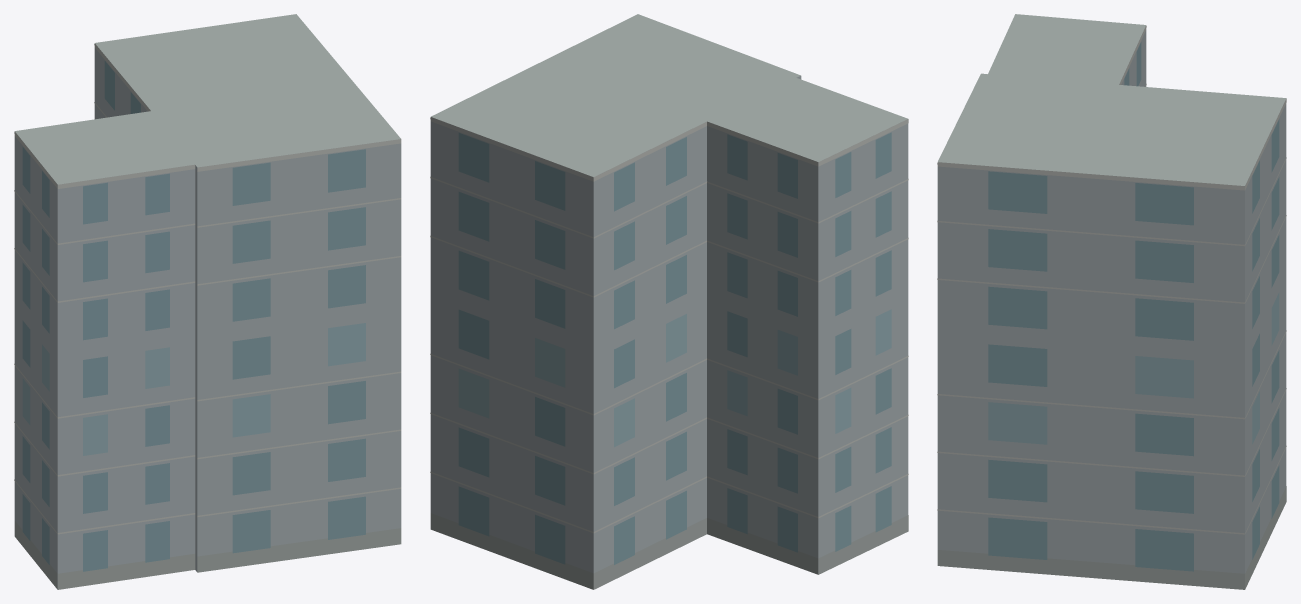
File: survey-upis-32786356.glb
3 renders of one model, left to right at view 1: azimuth 30°, elevation 25°; view 2: azimuth 150°, elevation 25°; view 3: azimuth 270°, elevation 25°, orthographic. The views are drawn at different scales.
Parts seen in each view (by area): view 1: survey-upis-32786356.tmp; view 2: survey-upis-32786356.tmp; view 3: survey-upis-32786356.tmp.
Part boxes in pixels (box(x1,y1,x2,y2)): survey-upis-32786356.tmp: box(14, 14, 401, 589); survey-upis-32786356.tmp: box(430, 14, 908, 589); survey-upis-32786356.tmp: box(937, 14, 1286, 589).
Size of the model in its own units: 20.41 by 22.3 by 17.49.
